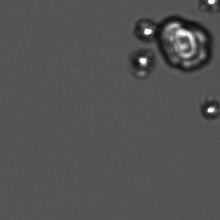Living Cell: (158, 15, 212, 70), (135, 14, 158, 42), (131, 49, 152, 73), (201, 98, 219, 119), (201, 1, 220, 13)
